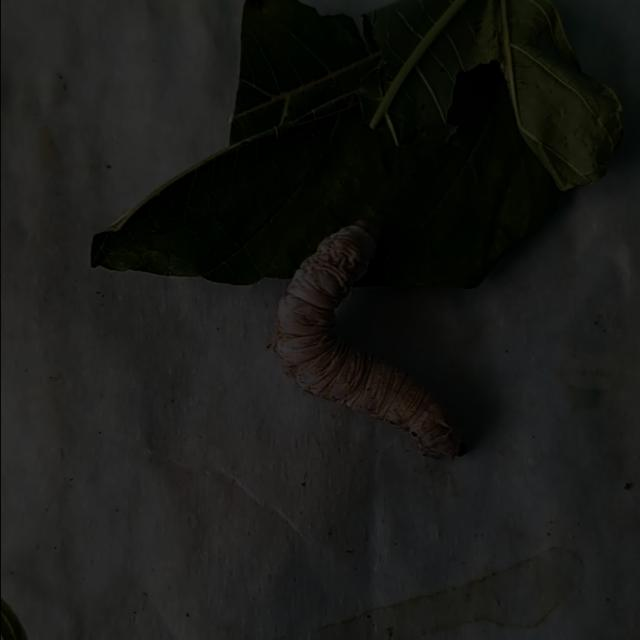Grasserie: (256, 196, 486, 468)
